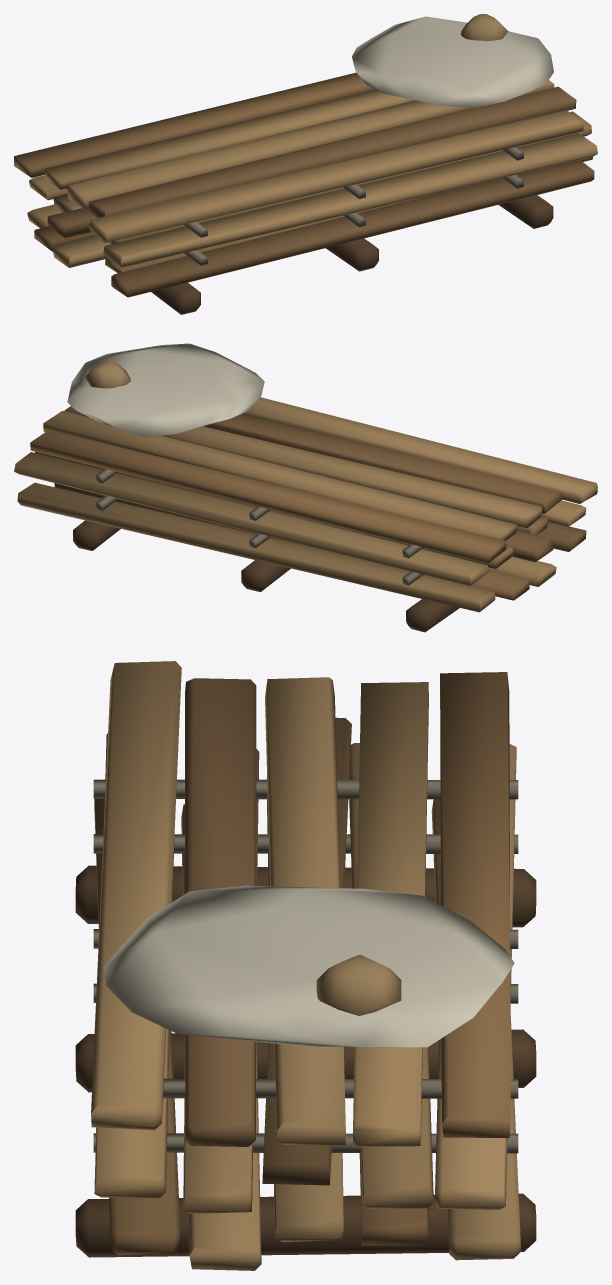
File: timber_stack_a_lod1.glb
The picture shows the model from 3 angles, top to bottom: view 1: azimuth 30°, elevation 25°; view 2: azimuth 150°, elevation 25°; view 3: azimuth 270°, elevation 25°; orthographic projection. The views are drawn at different scales.
Parts seen in each view (by area): view 1: Surface.001; view 2: Surface.001; view 3: Surface.001.
Part boxes in pixels (x1,y1,x2,y2): Surface.001: (14,14,597,314); Surface.001: (14,343,597,632); Surface.001: (75,661,536,1270).
Size of the model in its own units: 3.22 by 0.9428 by 1.3.
